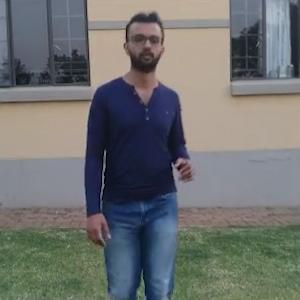follow: (73, 11, 187, 299)
